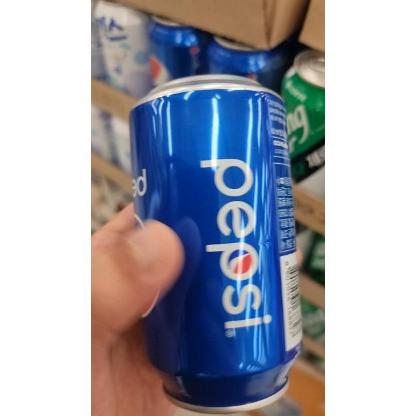Can: (130, 75, 300, 416)
